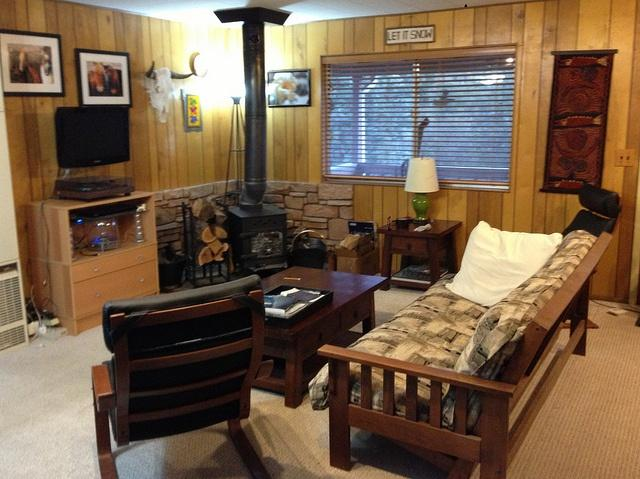AIO PC-Monitor-TV: (55, 104, 130, 170)
Meja: (257, 265, 389, 409)
